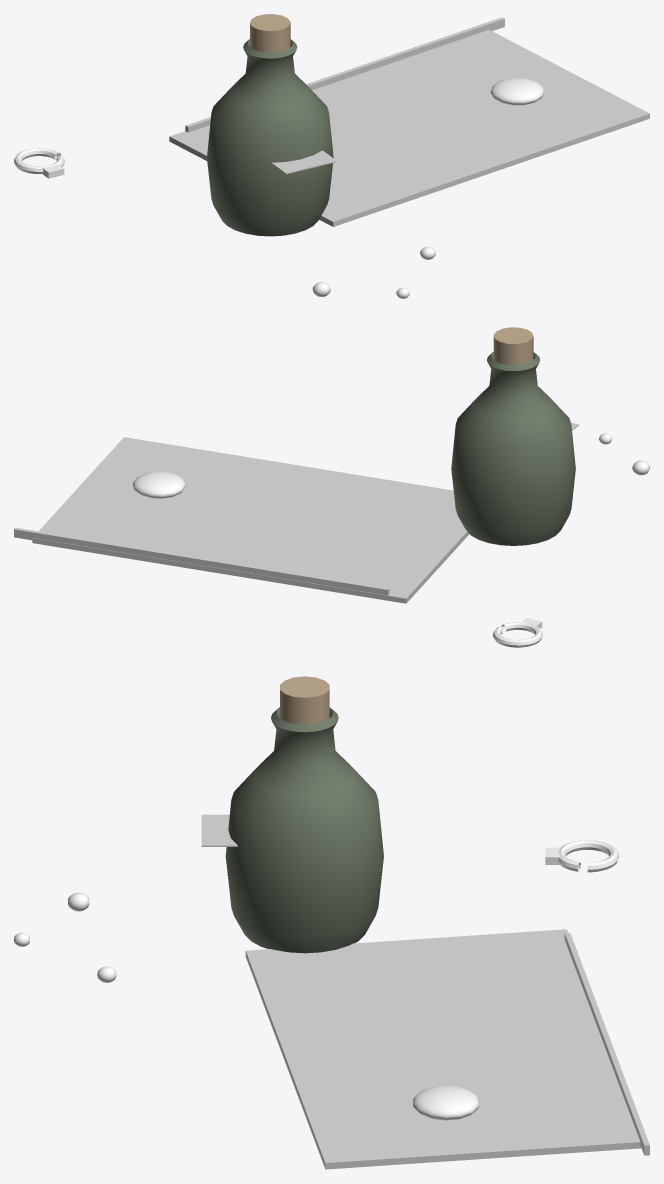
Rendered from tls_prp_014_evidence_a_v001.fbx.
3 views of the same model, one above another, from view 1: azimuth 30°, elevation 25°; view 2: azimuth 150°, elevation 25°; view 3: azimuth 270°, elevation 25° (orthographic). The views are drawn at different scales.
Visible parts, largest first — view 1: Ev_Letter, Ev_Bottle, Ev_LetterFold, Ev_Cork, Ev_Seal, Ev_Ring, Ev_Label; view 2: Ev_Letter, Ev_Bottle, Ev_LetterFold, Ev_Cork, Ev_Seal, Ev_Ring; view 3: Ev_Letter, Ev_Bottle, Ev_Cork, Ev_LetterFold, Ev_Seal, Ev_Ring, Ev_Label.
Boxes of the visible parts, bbox=[...] form: Ev_Letter: bbox=[169, 29, 649, 226]; Ev_Bottle: bbox=[207, 39, 333, 236]; Ev_LetterFold: bbox=[185, 17, 504, 132]; Ev_Cork: bbox=[250, 14, 290, 52]; Ev_Seal: bbox=[490, 77, 544, 105]; Ev_Ring: bbox=[14, 148, 64, 173]; Ev_Label: bbox=[271, 150, 336, 174]; Ev_Letter: bbox=[32, 437, 469, 603]; Ev_Bottle: bbox=[451, 352, 575, 545]; Ev_LetterFold: bbox=[14, 527, 389, 595]; Ev_Cork: bbox=[493, 327, 533, 365]; Ev_Seal: bbox=[132, 471, 185, 498]; Ev_Ring: bbox=[493, 622, 542, 647]; Ev_Letter: bbox=[245, 929, 641, 1169]; Ev_Bottle: bbox=[225, 707, 383, 953]; Ev_Cork: bbox=[280, 676, 329, 724]; Ev_LetterFold: bbox=[564, 932, 649, 1155]; Ev_Seal: bbox=[413, 1085, 479, 1120]; Ev_Ring: bbox=[558, 840, 619, 872]; Ev_Label: bbox=[201, 814, 237, 846].
Size of what is drawn, in the model's own units: 0.2692 by 0.2249 by 0.0964.
